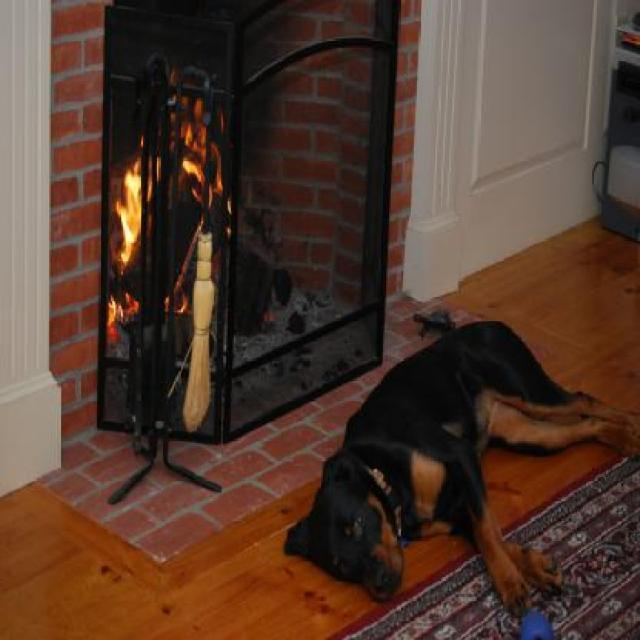Fire: (184, 100, 227, 208), (119, 157, 148, 268), (102, 292, 120, 338), (124, 294, 141, 318), (176, 290, 189, 318)
